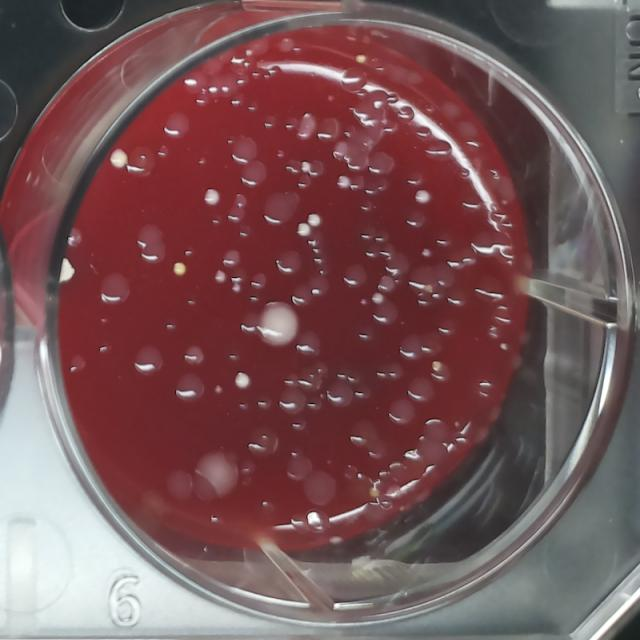Staphylococcus: (52, 257, 77, 287), (108, 148, 129, 172), (202, 187, 222, 208), (334, 172, 352, 192), (233, 371, 251, 390), (413, 186, 430, 206), (171, 260, 188, 278), (306, 211, 322, 230), (296, 221, 312, 238), (298, 159, 312, 175)
